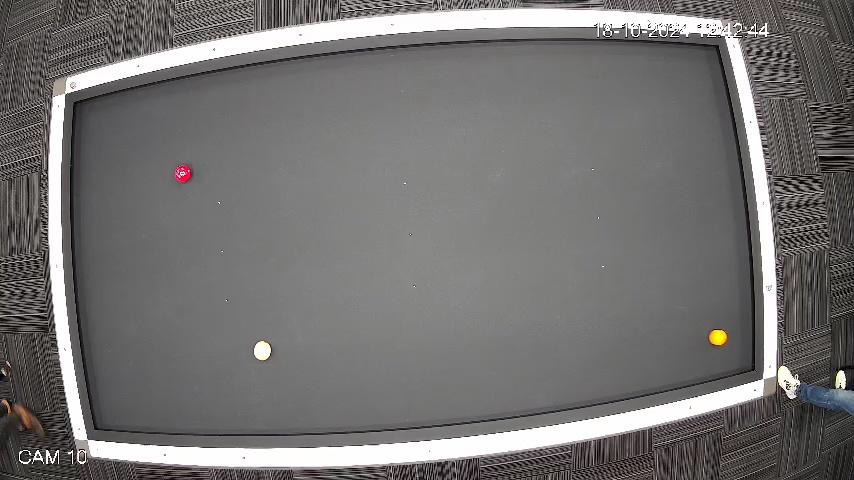Red: (173, 164, 193, 184)
White: (254, 340, 272, 362)
Yellow: (707, 328, 728, 346)
